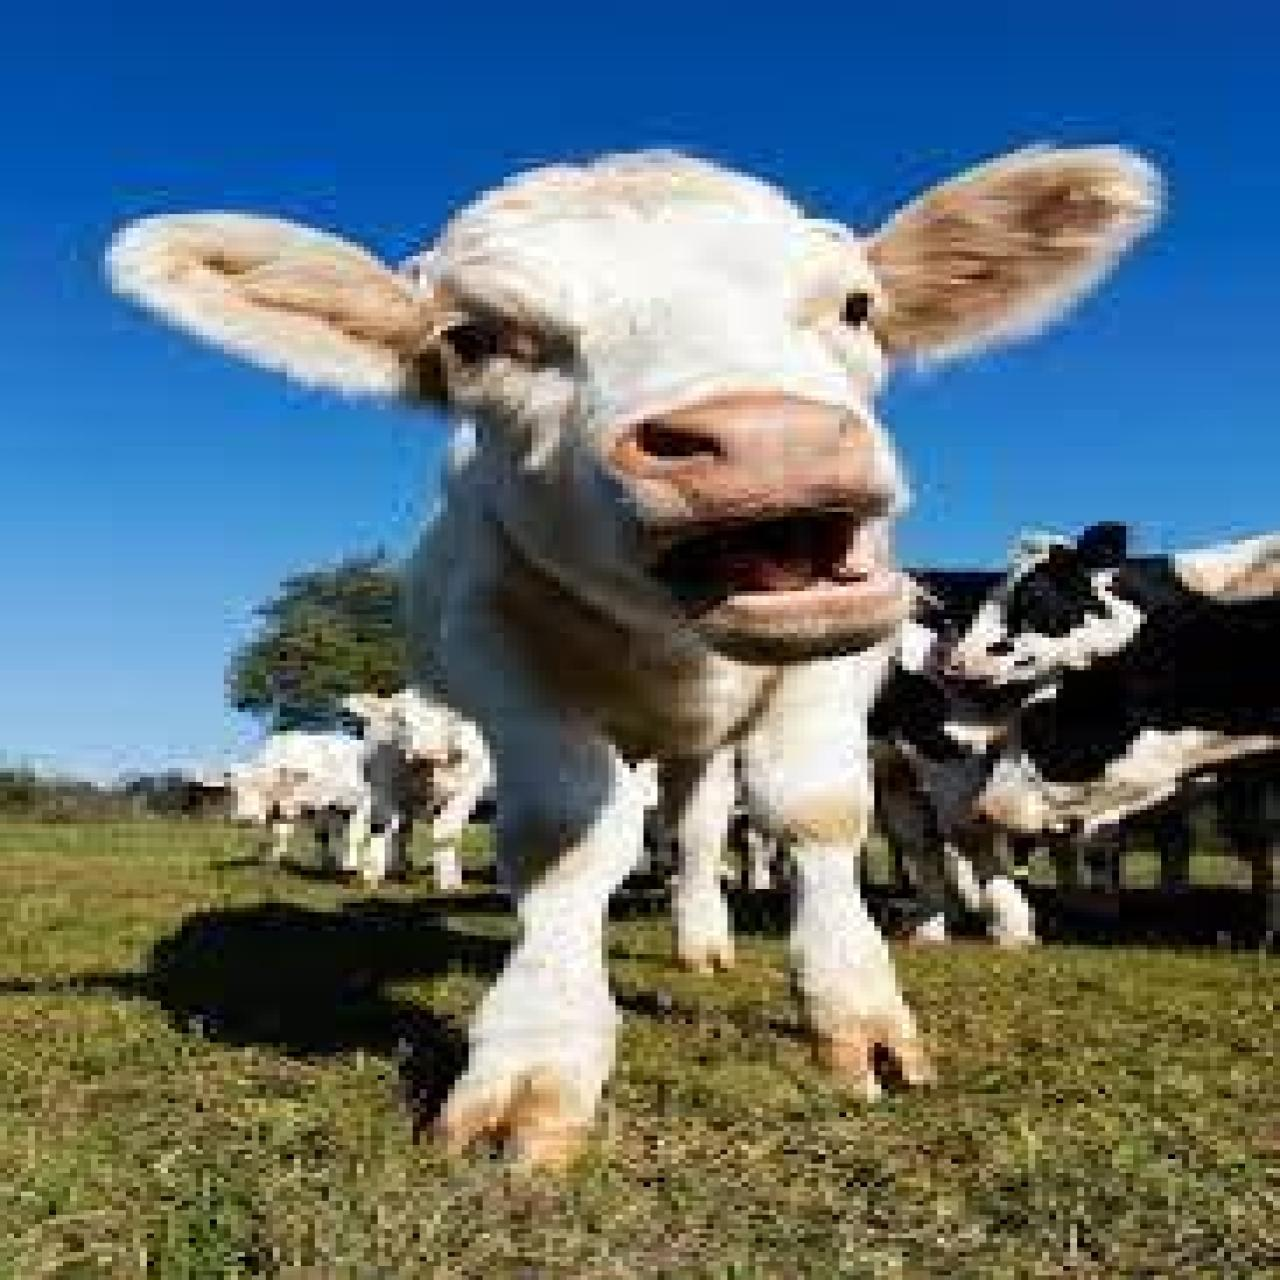cow: (109, 139, 1171, 1169), (878, 570, 1039, 961), (959, 661, 1280, 852), (931, 519, 1280, 692), (342, 687, 497, 897), (196, 728, 372, 873)
